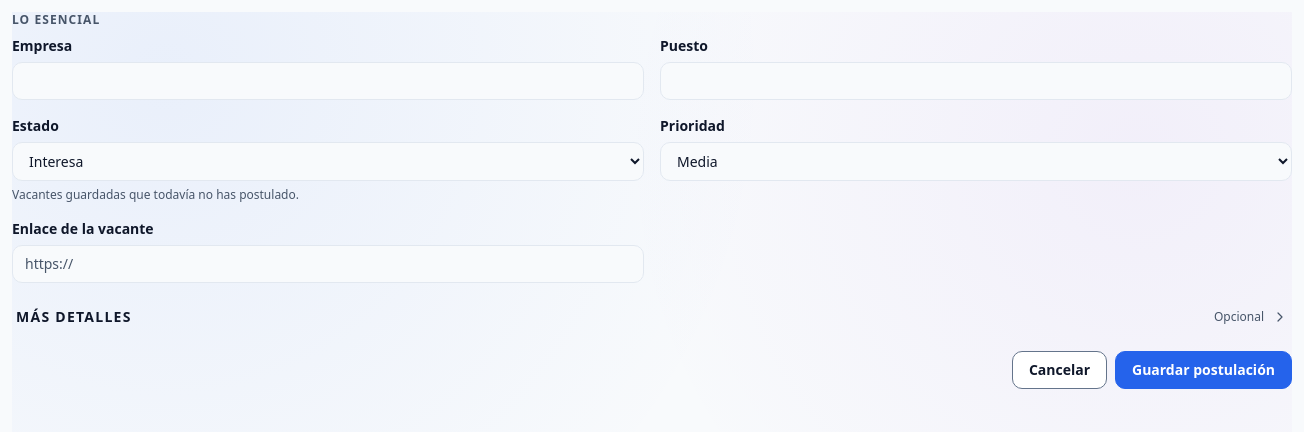
Test: ApplicationForm › muestra mensajes de error legibles al enviar campos vacíos
Click the button "Guardar postulación" at (1204, 370), box [1115,351,1292,389]
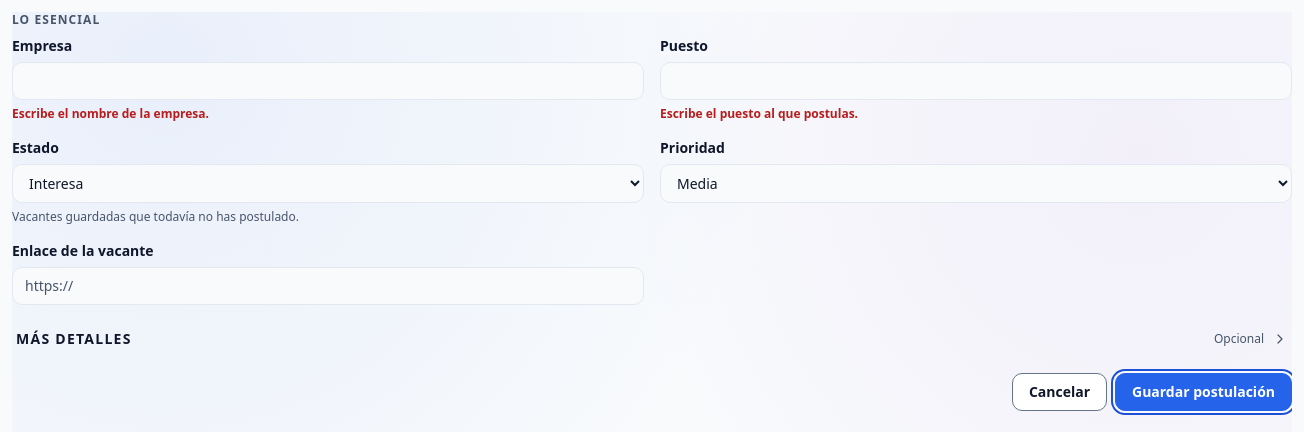
expect the text "Escribe el nombre de la empresa." is shown: met, box [12,105,209,122]
expect the text "Escribe el puesto al que postulas." is shown: met, box [660,105,858,122]
